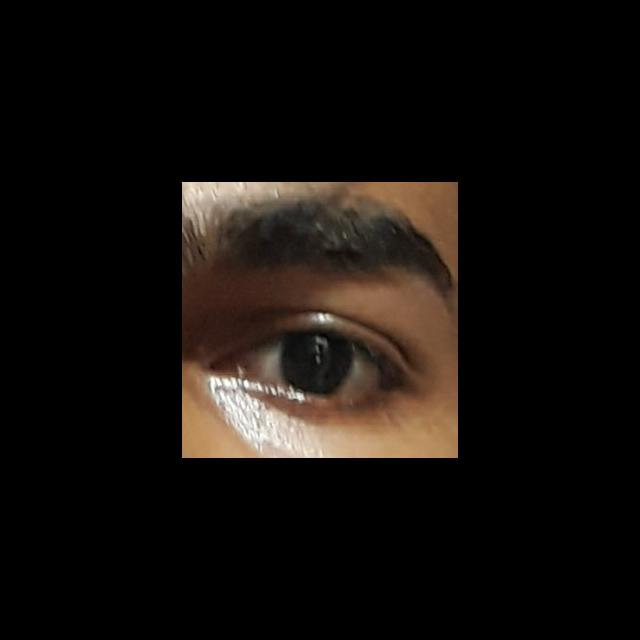eye: (249, 330, 382, 400)
iris: (280, 332, 353, 395)
